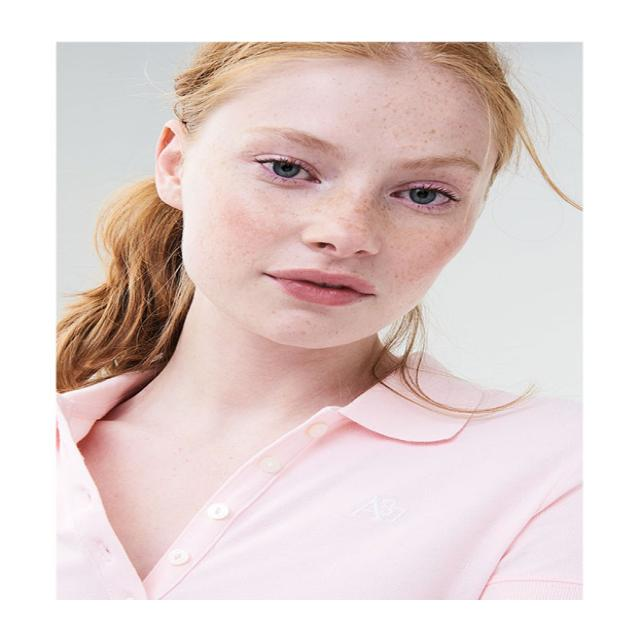mobile_phonerotation: (54, 41, 584, 600)
